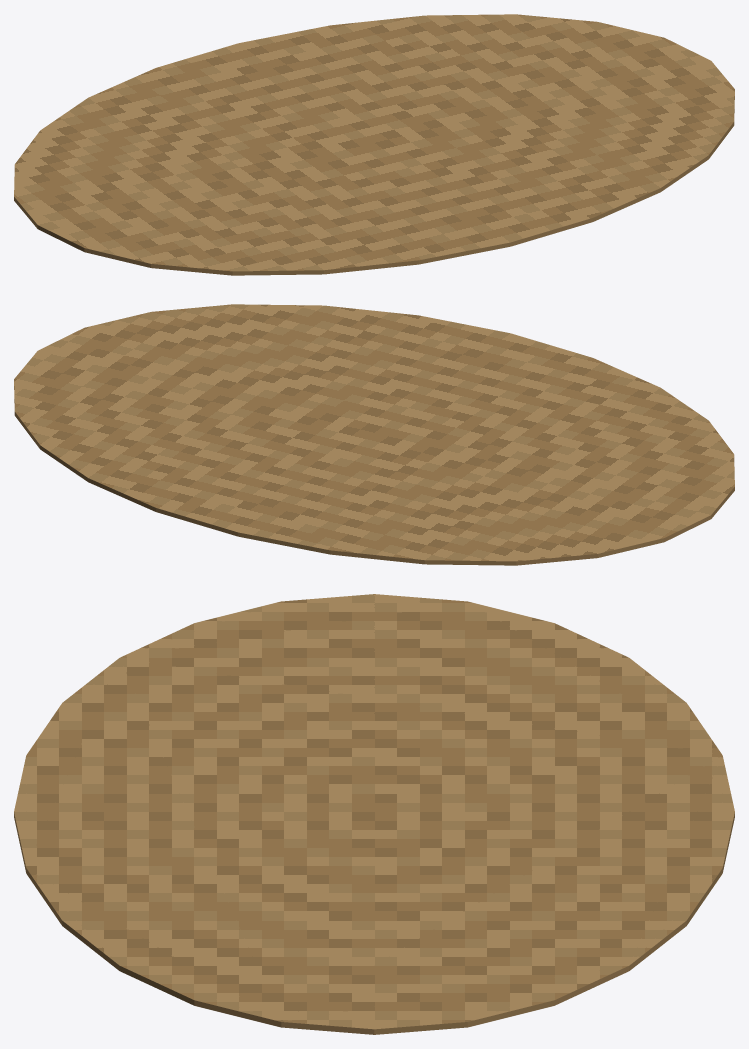
The model's file is rug_jute.glb.
3 renders of one model, top to bottom at view 1: azimuth 30°, elevation 25°; view 2: azimuth 150°, elevation 25°; view 3: azimuth 270°, elevation 25°, orthographic. The views are drawn at different scales.
Visible parts, largest first — view 1: Rug_jute; view 2: Rug_jute; view 3: Rug_jute.
Boxes of the visible parts, box(x1,y1,x2,y2) form: Rug_jute: box(14, 14, 734, 275); Rug_jute: box(14, 304, 734, 565); Rug_jute: box(14, 594, 734, 1034).
Size of the model in its own units: 2 by 0.012 by 1.4.
Materials: 2 (1 with a texture image).
